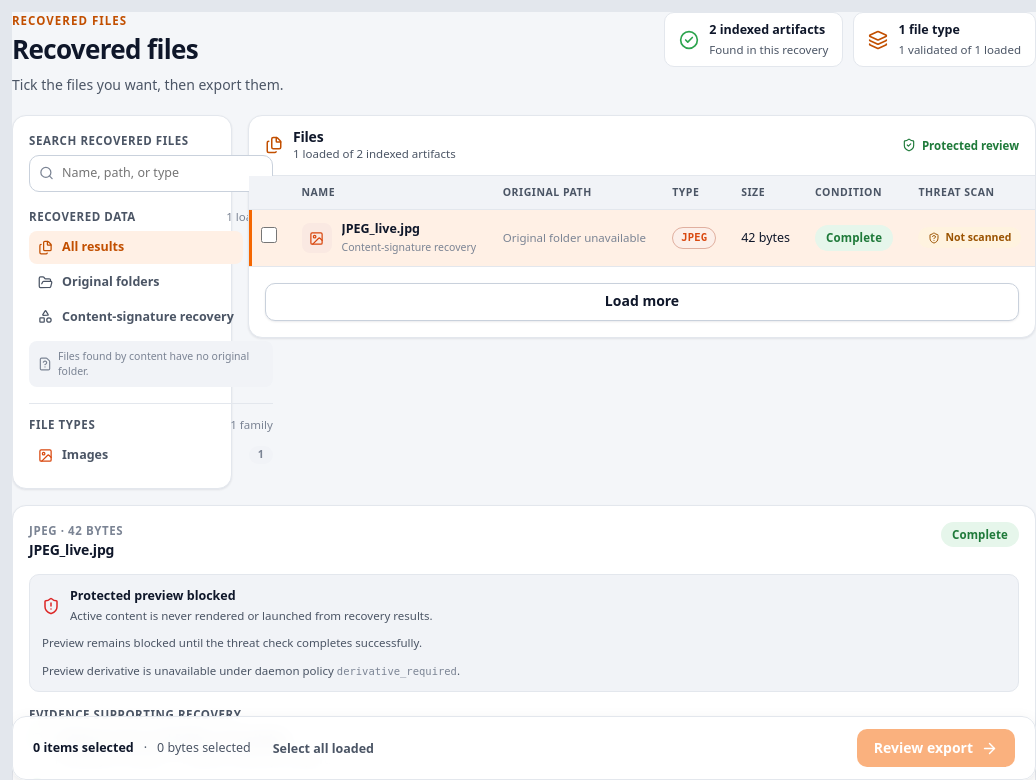
Test: live renderer pages › loads daemon result pagination cursors without renderer fixtures
Click the button "Load more".
click(642, 302)  # box top-left (265, 283), bottom-right (1019, 321)
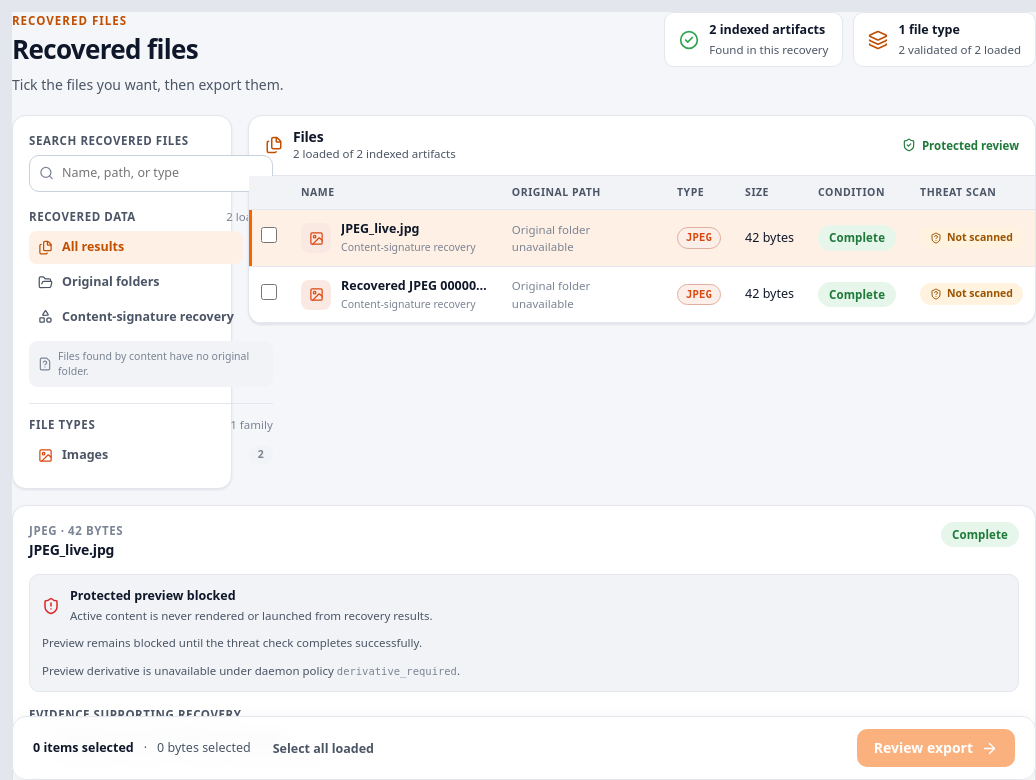
expect the text "Recovered JPEG 0000002" is shown: met, box top-left (341, 277), bottom-right (488, 296)
